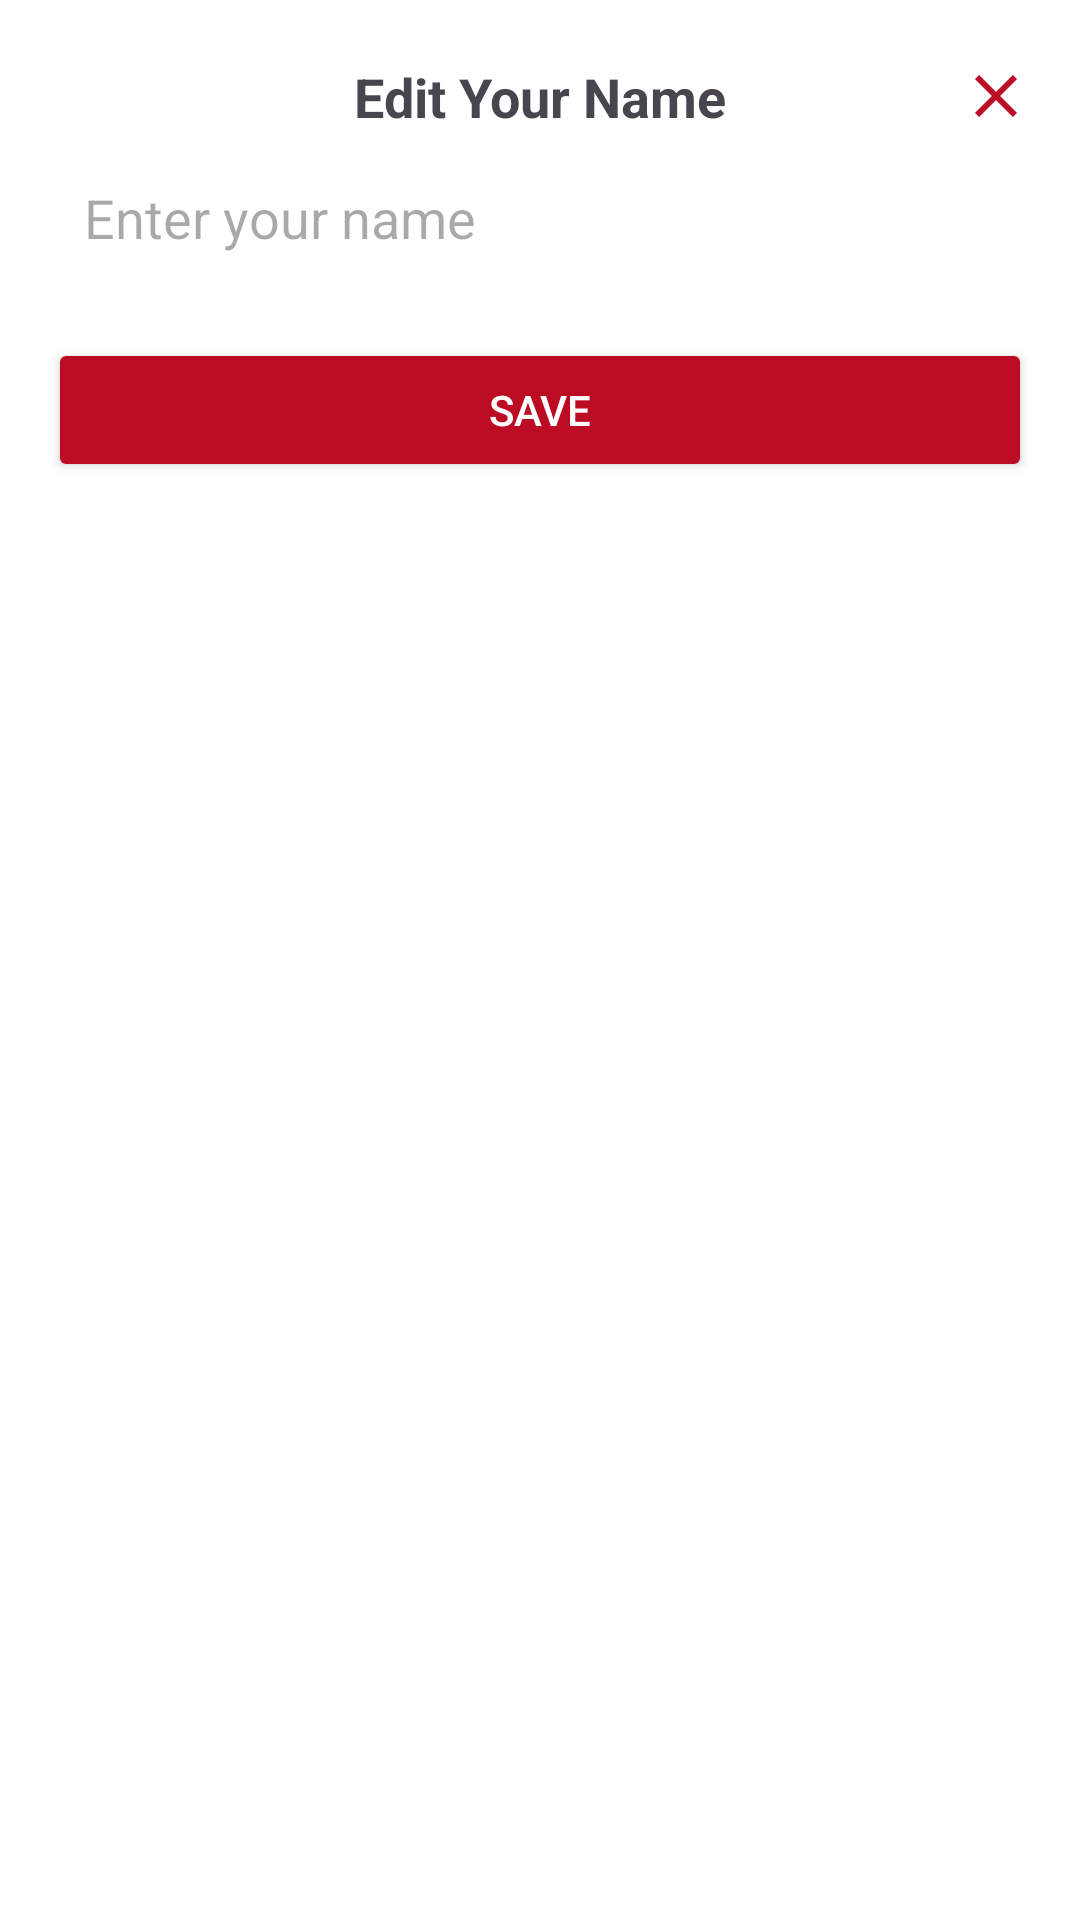

Icons on this 1080 × 1920 Android screen, each with its box as (x1=x1, y1=y1, x2=x2, y2=y2):
close: (x1=975, y1=75, x2=1017, y2=117)
